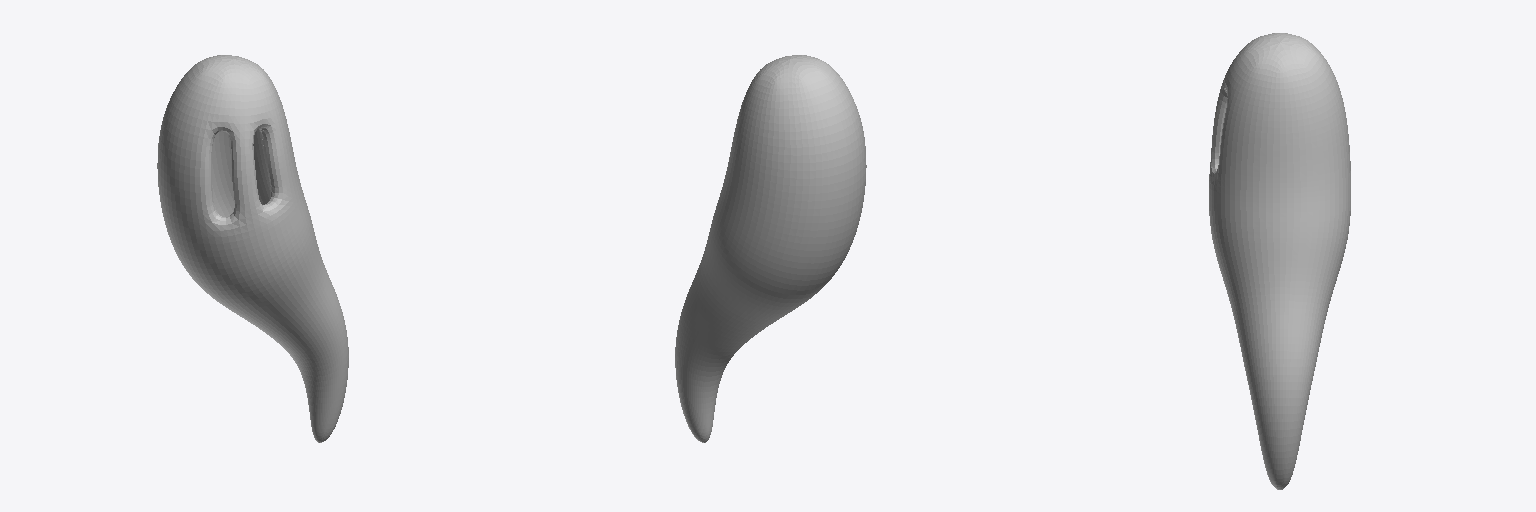
Rendered from Ghost.obj.
3 views of the same model, side by side, from view 1: azimuth 30°, elevation 25°; view 2: azimuth 150°, elevation 25°; view 3: azimuth 270°, elevation 25° (orthographic).
Visible parts, largest first — view 1: Ghost; view 2: Ghost; view 3: Ghost.
Part boxes in pixels (x1,y1,x2,y2): Ghost: (157,55,348,442); Ghost: (675,55,866,442); Ghost: (1209,33,1350,489).
Size of the model in its own units: 1.48 by 3.2 by 1.02.